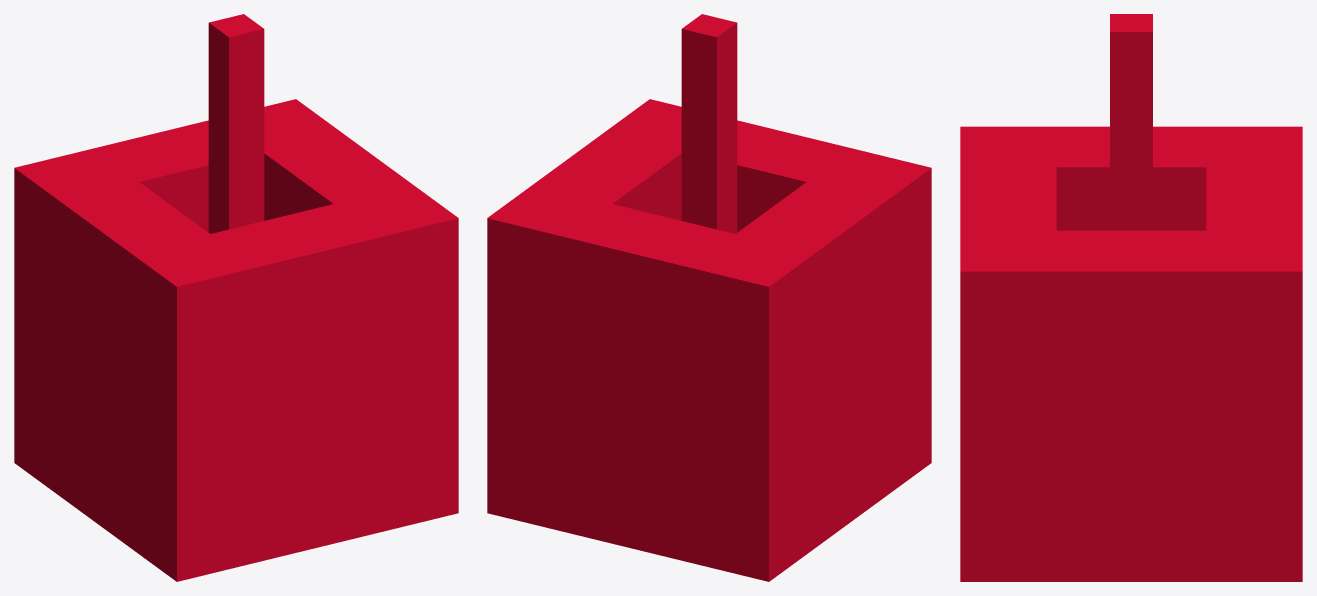
3 views of the same model, side by side, from view 1: azimuth 30°, elevation 25°; view 2: azimuth 150°, elevation 25°; view 3: azimuth 270°, elevation 25° (orthographic). The views are drawn at different scales.
Visible parts, largest first — view 1: Cube; view 2: Cube; view 3: Cube.
Boxes of the visible parts, left/top/right/bottom form: Cube: left=14, top=14, right=458, bottom=581; Cube: left=487, top=14, right=931, bottom=581; Cube: left=960, top=14, right=1302, bottom=581.
Bounding box in the file's own units: 200 × 313 × 200.
